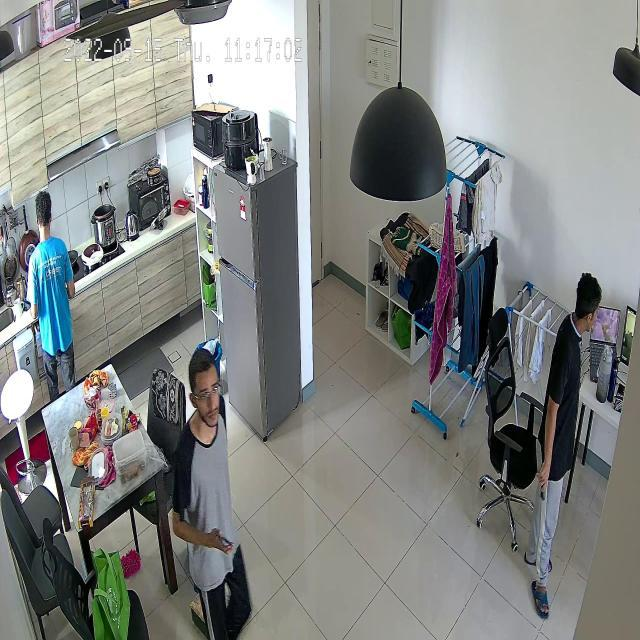Knife: (523, 430, 555, 498)
